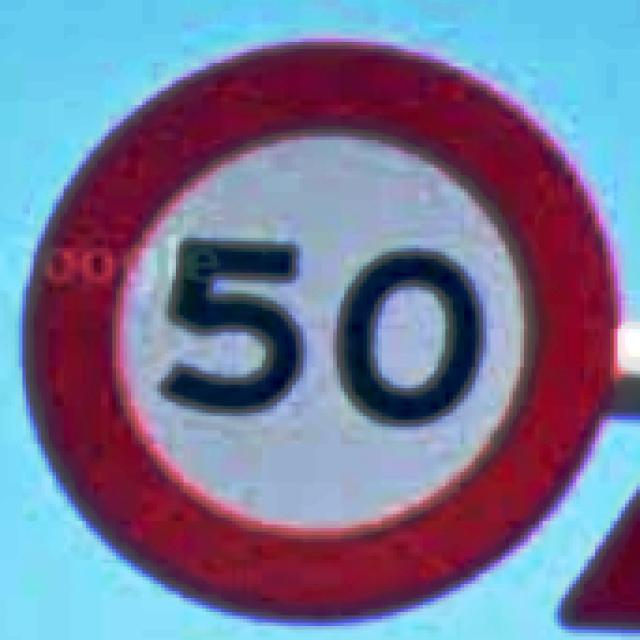max50: (19, 31, 621, 619)
